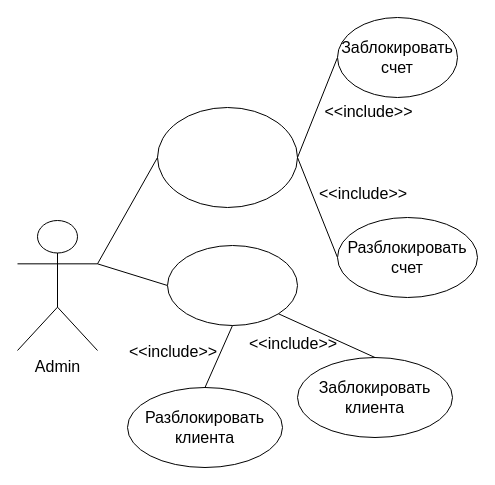
This 495x485 diagram has some shape labels left out. Each missing label, with the centre of its shape:
"Работа с информацией про клиентов" goes at point (232, 285).
"Работа с информацией про счета клиентов" goes at point (227, 157).
